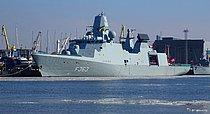MIL_Ship: (30, 13, 192, 78)
